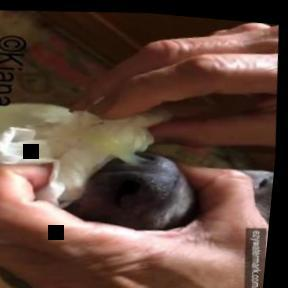nasal_discharge: (88, 118, 186, 173)
